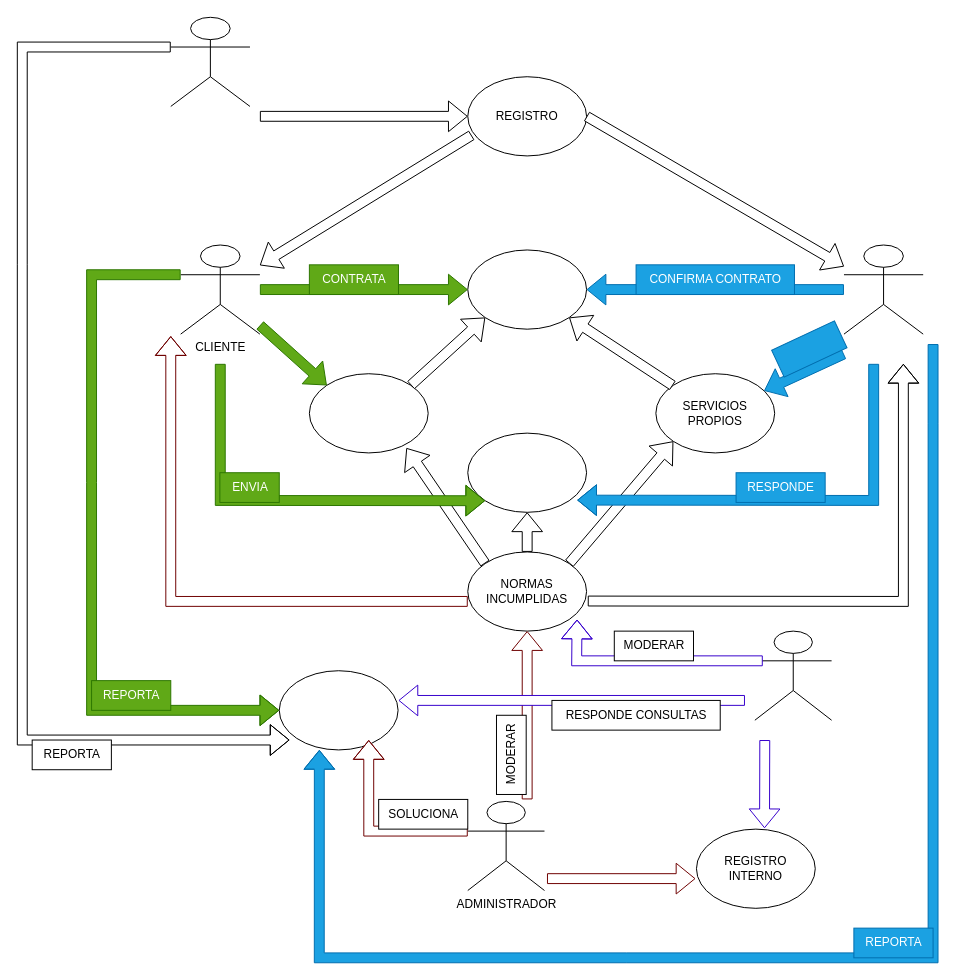
The diagram is 955 pixels wide and 980 high, and some of its shapes have lost their labels. The box of each missing label's shape, as (x1, y1, x2, y2) in pixels:
ERRORES: (278, 670, 398, 750)
MENSAJES: (467, 432, 587, 512)
MODERADOR: (754, 630, 832, 720)
PROVEEDOR: (843, 244, 923, 334)
PUBLICA: (771, 320, 847, 377)
RESEÑA: (308, 373, 428, 453)
SERVICIO: (467, 249, 587, 329)
USUARIO: (170, 16, 250, 106)
